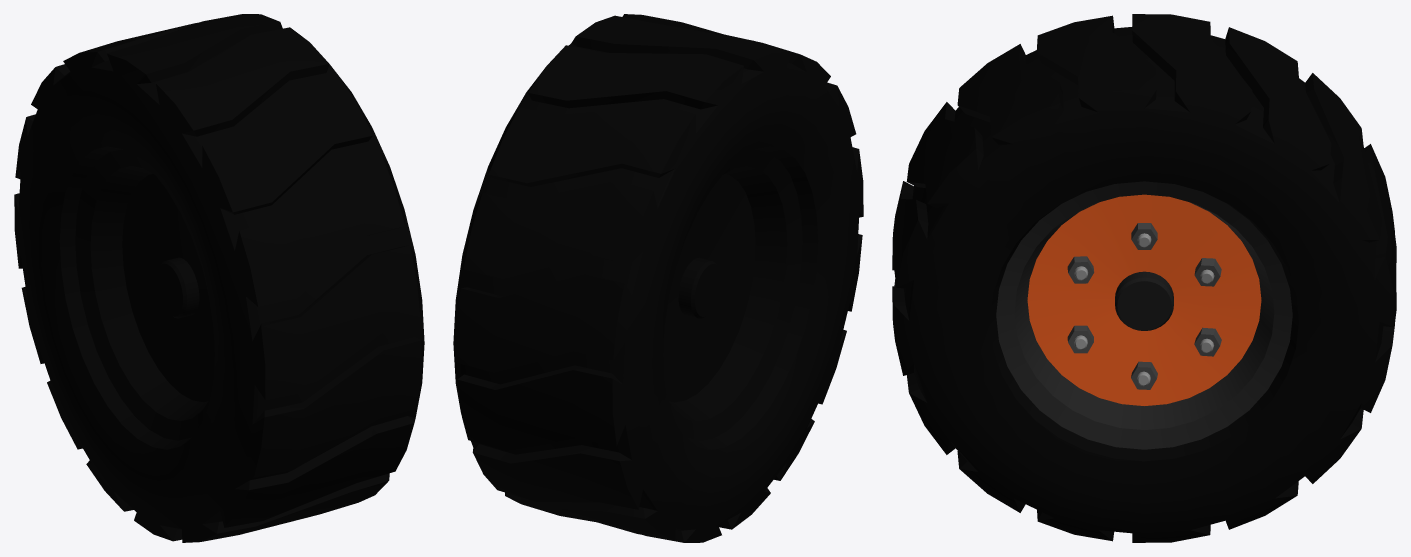
Rendered from load_wheel_L.glb.
The picture shows the model from 3 angles, left to right: view 1: azimuth 30°, elevation 25°; view 2: azimuth 150°, elevation 25°; view 3: azimuth 270°, elevation 25°; orthographic projection.
Visible parts, largest first — view 1: WHEELFRONT; view 2: WHEELFRONT; view 3: WHEELFRONT.
Part boxes in pixels (x1,y1,x2,y2): WHEELFRONT: (14,14,424,542); WHEELFRONT: (453,14,863,542); WHEELFRONT: (892,14,1396,542).
Bounding box in the file's own units: 0.2327 × 0.554 × 0.554.
1 material, 1 textured.
